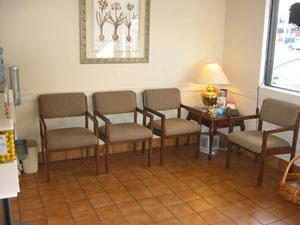Bote de Basura: (25, 145, 40, 175)
